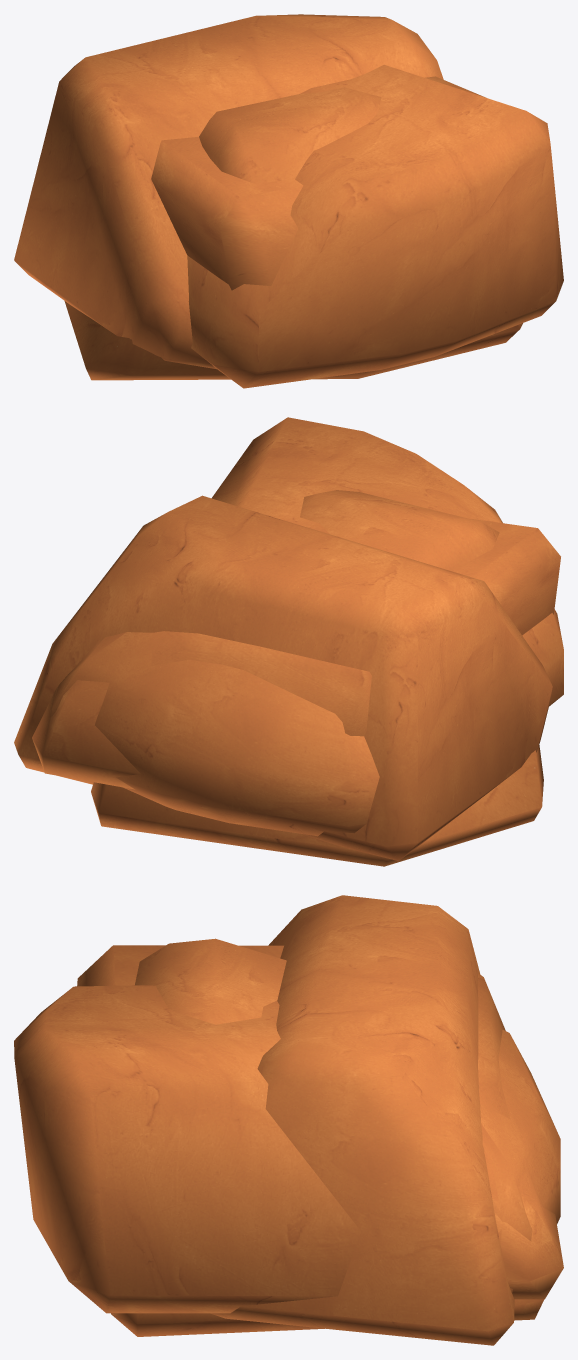
The model's file is PossibleClay.fbx.
3 renders of one model, top to bottom at view 1: azimuth 30°, elevation 25°; view 2: azimuth 150°, elevation 25°; view 3: azimuth 270°, elevation 25°, orthographic. The views are drawn at different scales.
Parts seen in each view (by area): view 1: Cube.004, Cube.002, Cube.003, Cube.001; view 2: Cube.002, Cube.004, Cube.001, Cube.003; view 3: Cube.004, Cube.002, Cube.003, Cube.001.
Part boxes in pixels (x1,y1,x2,y2): Cube.004: [187, 64, 563, 388]; Cube.002: [14, 14, 443, 369]; Cube.003: [64, 87, 522, 380]; Cube.001: [151, 137, 303, 290]; Cube.002: [14, 495, 552, 860]; Cube.004: [51, 417, 563, 836]; Cube.001: [32, 519, 560, 789]; Cube.003: [91, 490, 543, 866]; Cube.004: [14, 985, 560, 1313]; Cube.002: [210, 895, 514, 1345]; Cube.003: [111, 938, 544, 1336]; Cube.001: [77, 945, 563, 1299].
Bounding box in the file's own units: 248 × 138 × 247.
